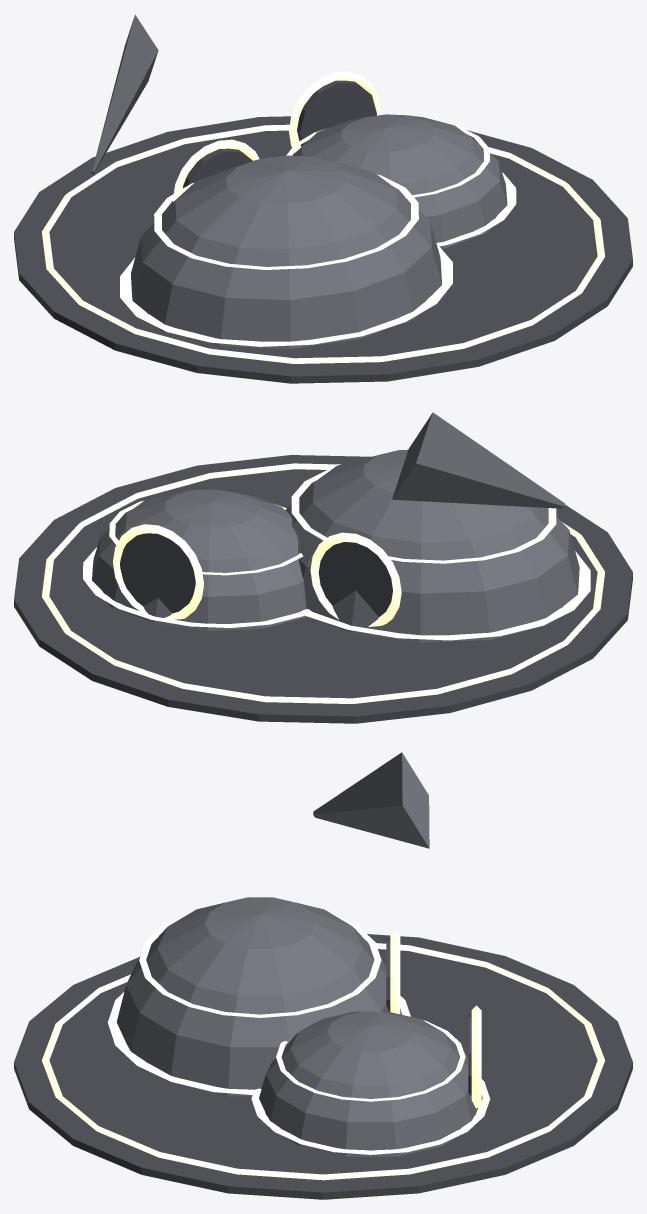
Rendered from zone_low_4.glb.
The picture shows the model from 3 angles, top to bottom: view 1: azimuth 30°, elevation 25°; view 2: azimuth 150°, elevation 25°; view 3: azimuth 270°, elevation 25°; orthographic projection.
Parts seen in each view (by area): view 1: zone_low_4, detail; view 2: zone_low_4, detail; view 3: zone_low_4, detail.
Boxes of the visible parts, x1,y1,x2,y2 form: zone_low_4: [14, 14, 632, 383]; detail: [42, 124, 604, 363]; zone_low_4: [14, 412, 632, 723]; detail: [42, 463, 604, 703]; zone_low_4: [14, 752, 632, 1199]; detail: [42, 913, 604, 1180].
Bounding box in the file's own units: 19.6 × 9.41 × 19.6.
